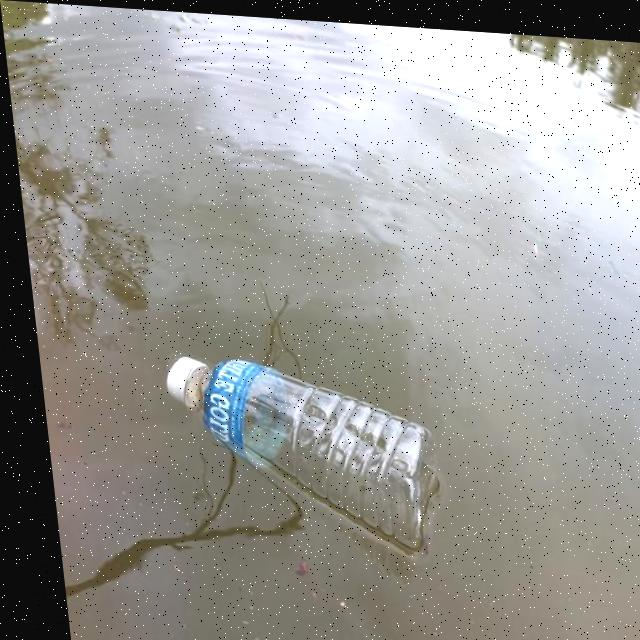waterbottle: (114, 312, 431, 578)
